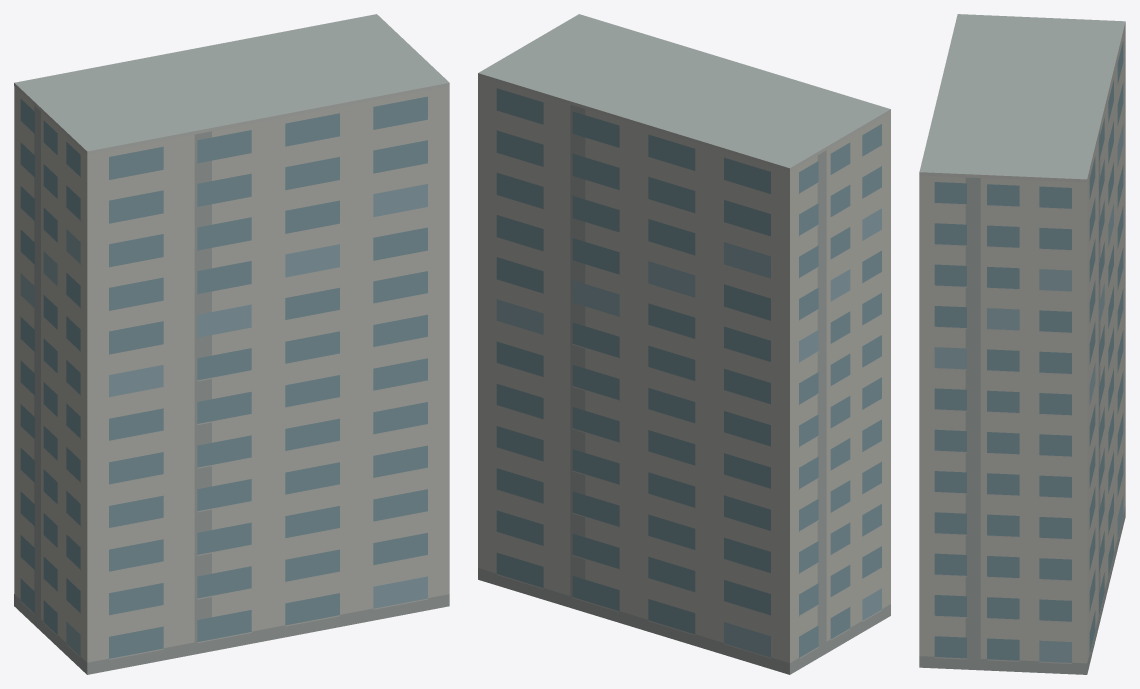
The model's file is residential-b7760ded-03da-4f9a-8a7f-02a62141ee56.glb.
The picture shows the model from 3 angles, left to right: view 1: azimuth 30°, elevation 25°; view 2: azimuth 150°, elevation 25°; view 3: azimuth 270°, elevation 25°; orthographic projection. The views are drawn at different scales.
Parts seen in each view (by area): view 1: residential-b7760ded-03da-4f9a-8a7f-02a62141ee56.tmp; view 2: residential-b7760ded-03da-4f9a-8a7f-02a62141ee56.tmp; view 3: residential-b7760ded-03da-4f9a-8a7f-02a62141ee56.tmp.
Boxes of the visible parts, x1=… form: residential-b7760ded-03da-4f9a-8a7f-02a62141ee56.tmp: x1=14, y1=14, x2=449, y2=674; residential-b7760ded-03da-4f9a-8a7f-02a62141ee56.tmp: x1=478, y1=14, x2=890, y2=674; residential-b7760ded-03da-4f9a-8a7f-02a62141ee56.tmp: x1=919, y1=14, x2=1125, y2=674.
Bounding box in the file's own units: 26.22 × 36.6 × 13.82.
